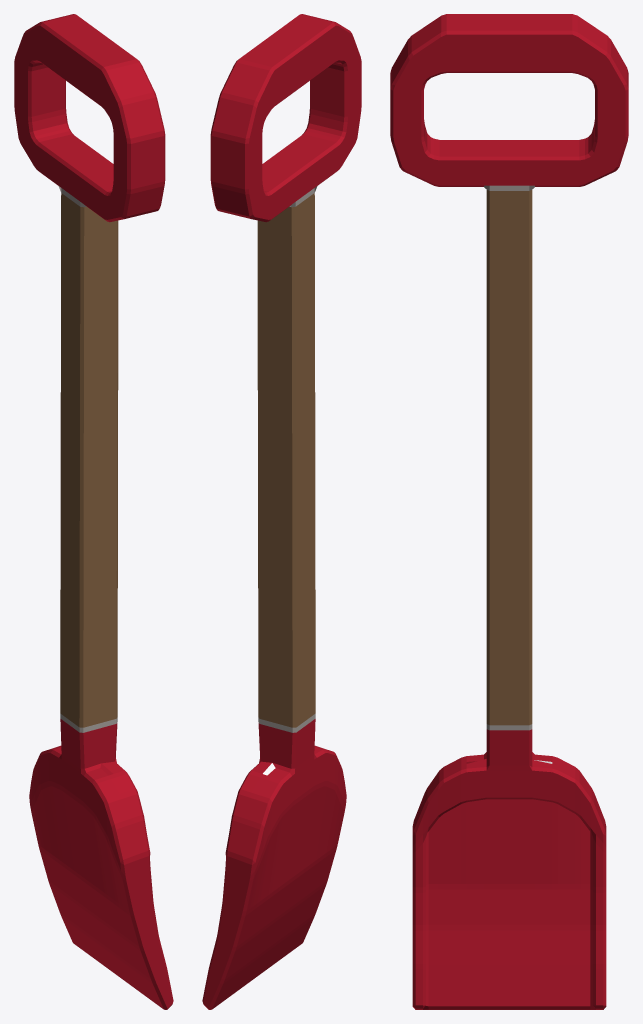
The model's file is Schaufel.fbx.
3 renders of one model, left to right at view 1: azimuth 30°, elevation 25°; view 2: azimuth 150°, elevation 25°; view 3: azimuth 270°, elevation 25°, orthographic. The views are drawn at different scales.
Parts seen in each view (by area): view 1: Schaufel; view 2: Schaufel; view 3: Schaufel.
Part boxes in pixels (bbox=[...]): Schaufel: bbox=[14, 14, 173, 1009]; Schaufel: bbox=[202, 14, 361, 1009]; Schaufel: bbox=[390, 14, 628, 1009].
Bounding box in the file's own units: 3.73 × 57.89 × 12.85.
Materials: 1 (1 with a texture image).
